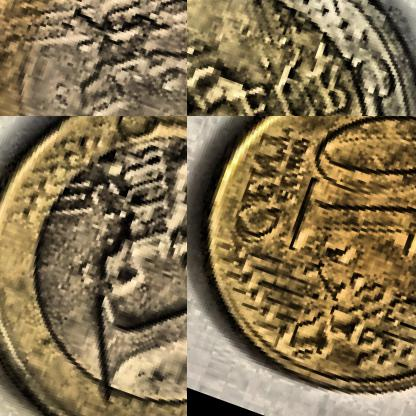coin: (187, 116, 415, 415), (0, 116, 186, 415), (187, 0, 415, 115), (0, 0, 186, 115)
